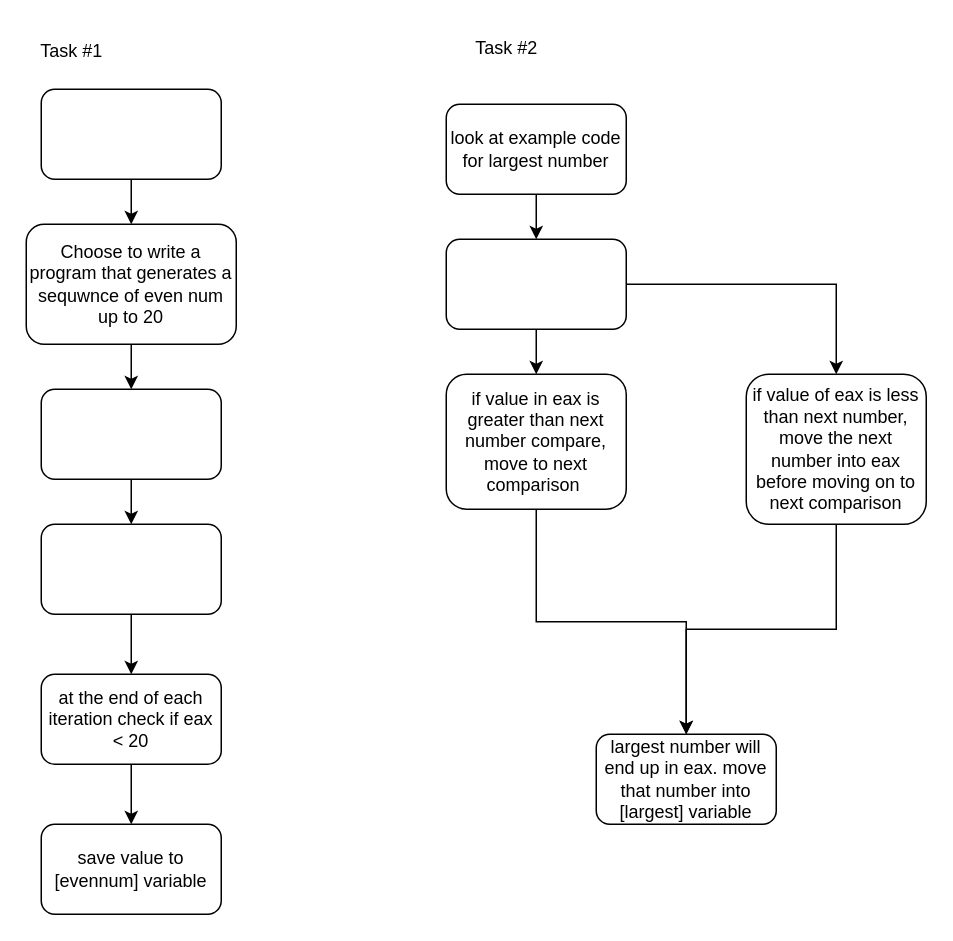
This 953x941 diagram has some shape labels left out. Here are the shapes that lost their labels. From the top down, the centre of each, then its label:
[130,133]: Look at example of lecture notes for generating integer numbers
[535,283]: set num1 to eax and compare to next number
[130,433]: start with eax initialized to 0
[130,568]: create a loop to increase eax by 2 to get even num
